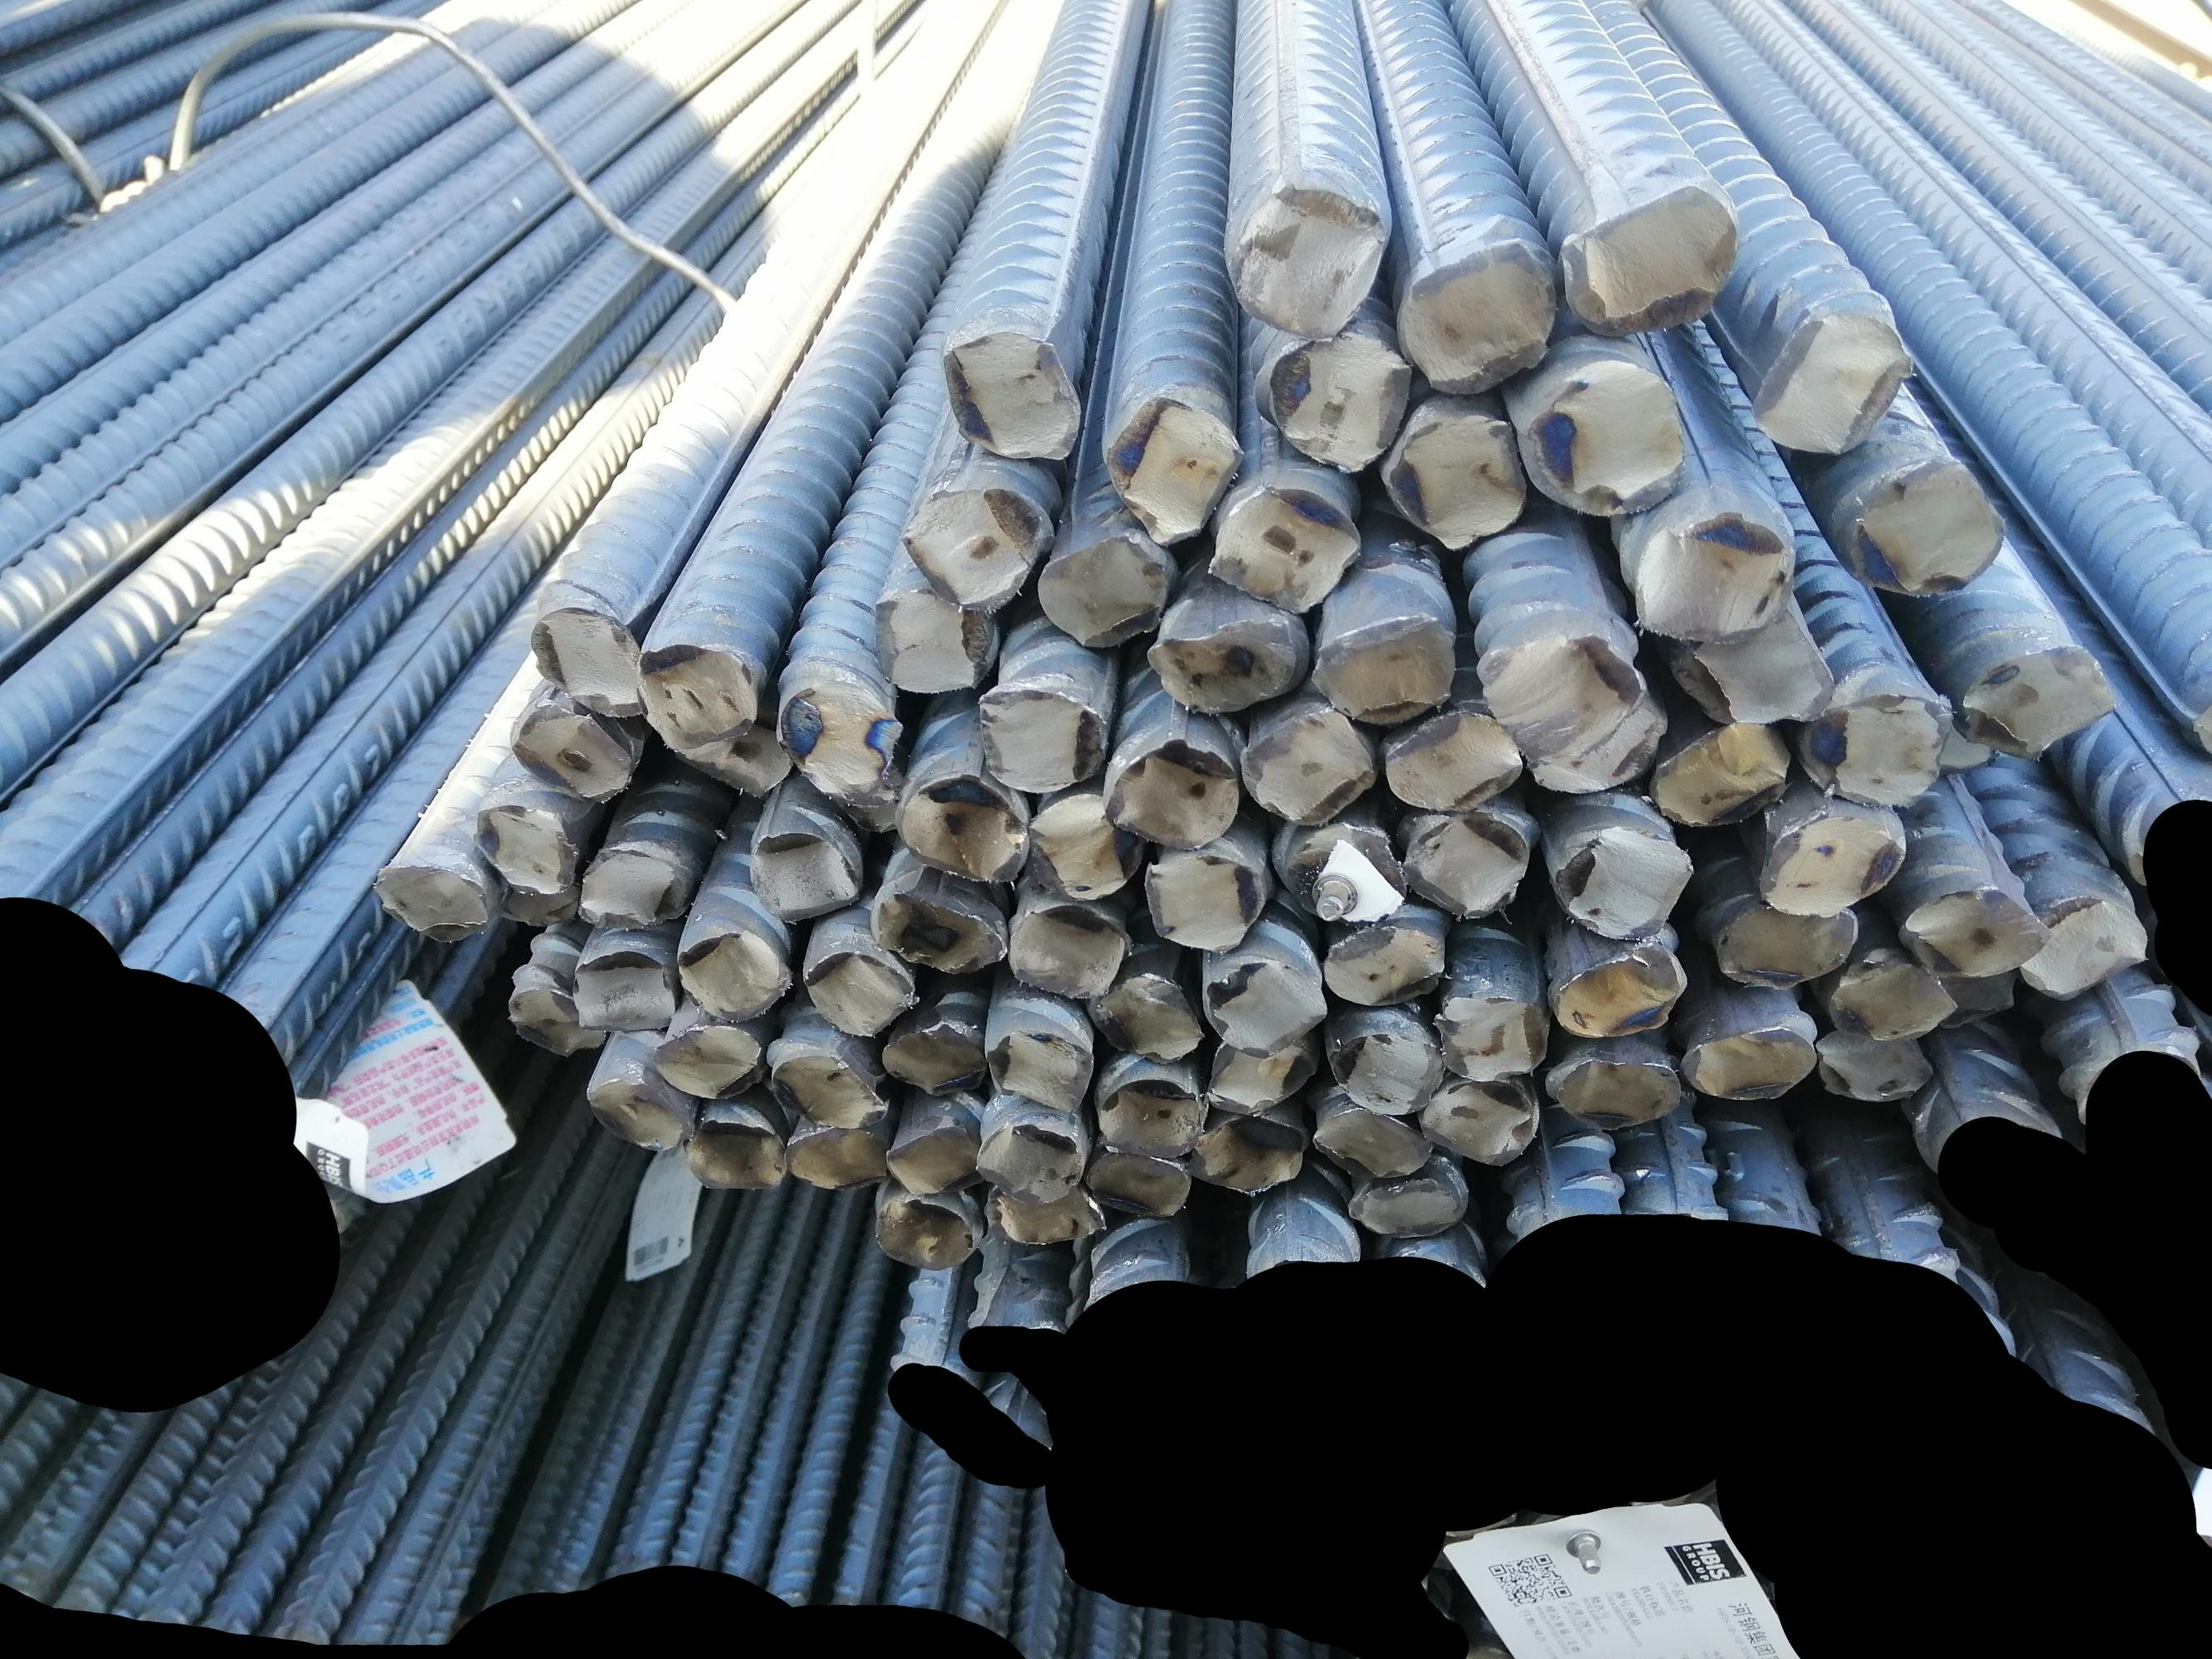bar: (1522, 354, 1691, 519), (1560, 188, 1743, 336), (1398, 244, 1571, 399), (1225, 186, 1384, 345), (1752, 310, 1907, 458), (1849, 458, 2008, 601), (1628, 509, 1794, 641), (1265, 329, 1412, 474), (1475, 636, 1642, 760), (1107, 397, 1239, 545), (1211, 488, 1360, 620), (901, 484, 1048, 617), (1382, 415, 1522, 549), (943, 333, 1082, 464), (1691, 603, 1835, 727), (1964, 640, 2113, 760), (1236, 711, 1375, 831), (1809, 694, 1951, 810), (1035, 532, 1168, 655), (1145, 608, 1300, 713), (896, 767, 1030, 887), (1764, 805, 1907, 917), (1377, 709, 1525, 816), (1654, 716, 1790, 831), (1555, 829, 1693, 943), (1311, 619, 1455, 723), (1110, 741, 1245, 852), (1529, 695, 1677, 795), (976, 685, 1107, 796), (777, 680, 903, 795), (1025, 786, 1147, 903), (1403, 810, 1529, 924), (2027, 892, 2151, 1004), (526, 605, 645, 720), (1199, 951, 1327, 1058), (629, 643, 757, 749), (1313, 917, 1454, 1011), (1715, 894, 1856, 988), (872, 587, 994, 695), (1902, 889, 2046, 979), (1546, 950, 1687, 1040), (1276, 826, 1407, 924), (511, 699, 634, 802), (673, 927, 800, 1023), (866, 887, 1006, 974), (1419, 1066, 1537, 1168), (1679, 1021, 1818, 1107), (1142, 857, 1262, 955), (1546, 1049, 1686, 1133), (1013, 903, 1124, 1002), (671, 711, 793, 802), (1330, 1023, 1445, 1119), (371, 861, 495, 950), (1438, 988, 1551, 1084), (467, 800, 580, 894), (1832, 957, 1959, 1040), (985, 1016, 1093, 1114), (1088, 971, 1203, 1061), (1813, 1019, 1937, 1103), (798, 950, 917, 1037), (748, 831, 859, 924), (1189, 1110, 1309, 1195), (1314, 1100, 1433, 1183), (772, 1044, 885, 1131), (572, 847, 683, 932), (973, 1119, 1079, 1208), (570, 950, 682, 1033), (1346, 1164, 1468, 1239), (650, 1019, 762, 1101), (882, 1012, 988, 1098), (504, 979, 612, 1061), (980, 1175, 1105, 1244), (584, 1072, 690, 1154), (1098, 1079, 1204, 1159), (1082, 1145, 1196, 1220), (1208, 1032, 1318, 1107), (683, 1114, 790, 1190), (779, 1117, 885, 1190), (873, 1192, 974, 1269), (879, 1126, 983, 1195), (1923, 965, 2022, 1030), (830, 756, 910, 833), (492, 870, 584, 931)
